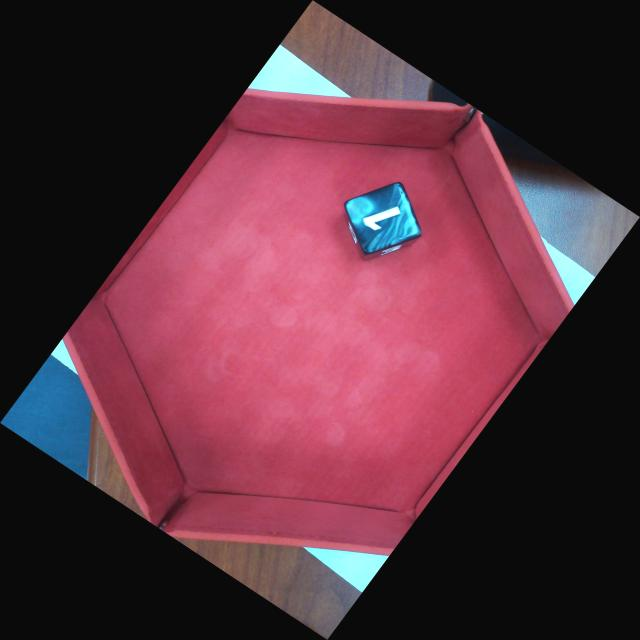dice: (348, 186, 418, 251)
